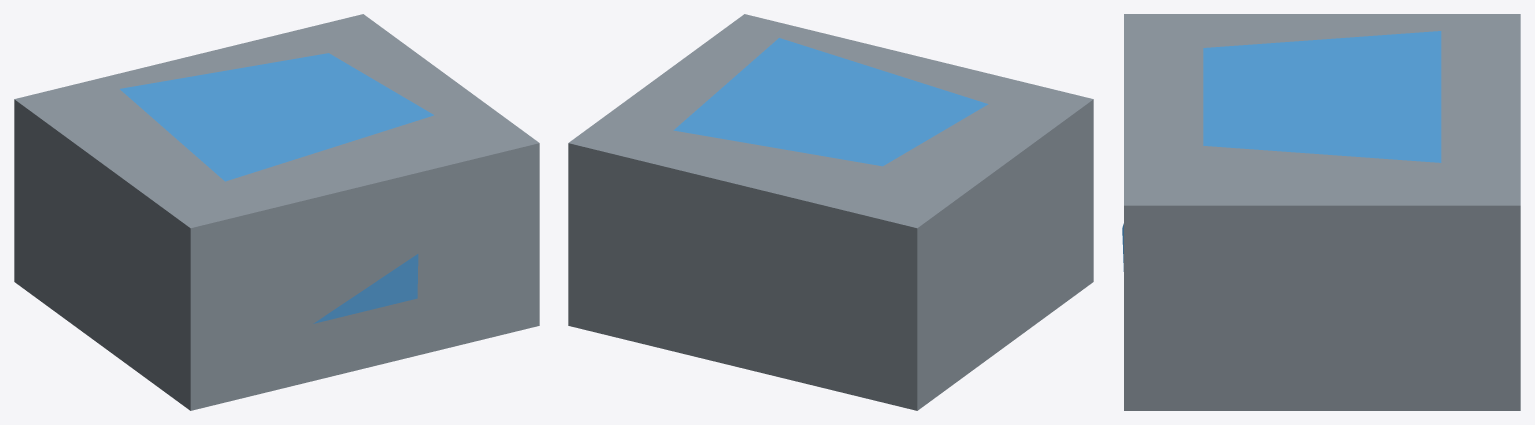
The model's file is AL_MCV_MobileNode_LOD1.glb.
3 views of the same model, side by side, from view 1: azimuth 30°, elevation 25°; view 2: azimuth 150°, elevation 25°; view 3: azimuth 270°, elevation 25° (orthographic). The views are drawn at different scales.
Visible parts, largest first — view 1: EntranceGate; view 2: EntranceGate; view 3: EntranceGate.
Boxes of the visible parts, <box> form: EntranceGate: <box>14,14,539,410</box>; EntranceGate: <box>568,14,1093,410</box>; EntranceGate: <box>1122,14,1520,410</box>.
Bounding box in the file's own units: 800 × 442 × 703.
